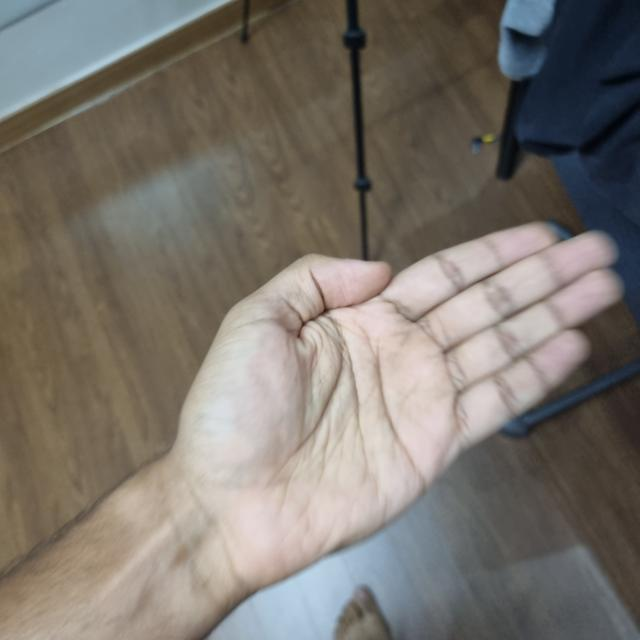Paper: (179, 222, 630, 574)
